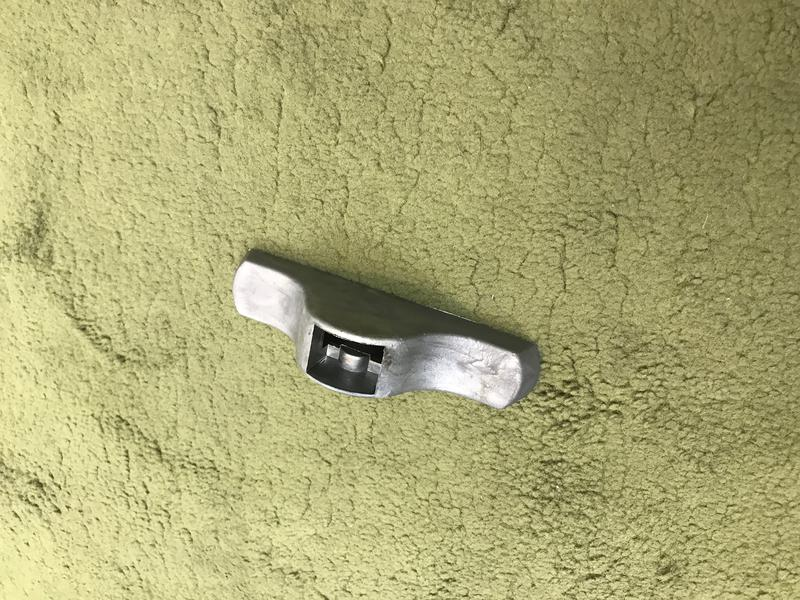zapchast: (211, 234, 560, 438)
